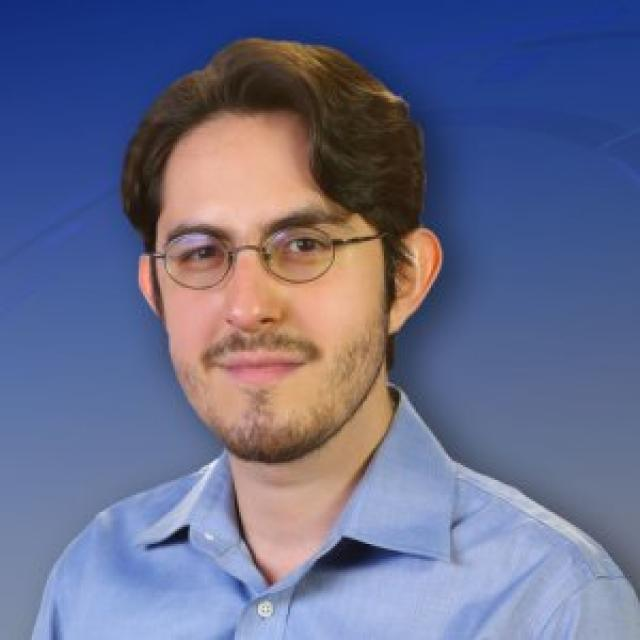human: (32, 31, 640, 640)
